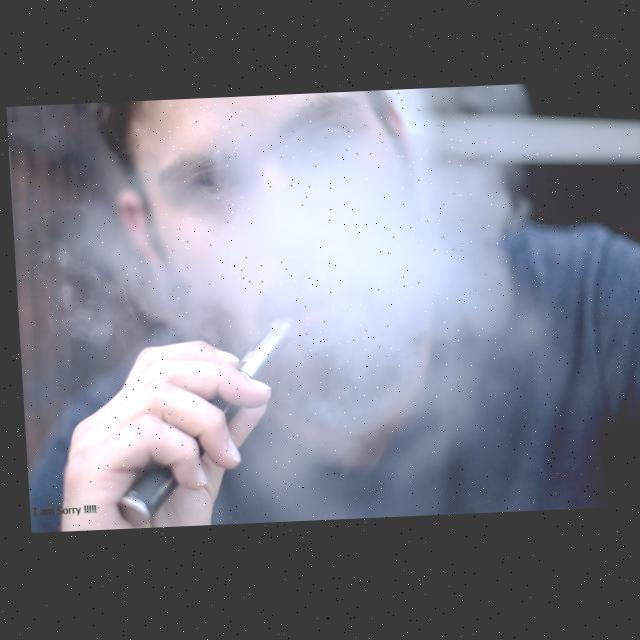vape: (102, 310, 308, 527)
